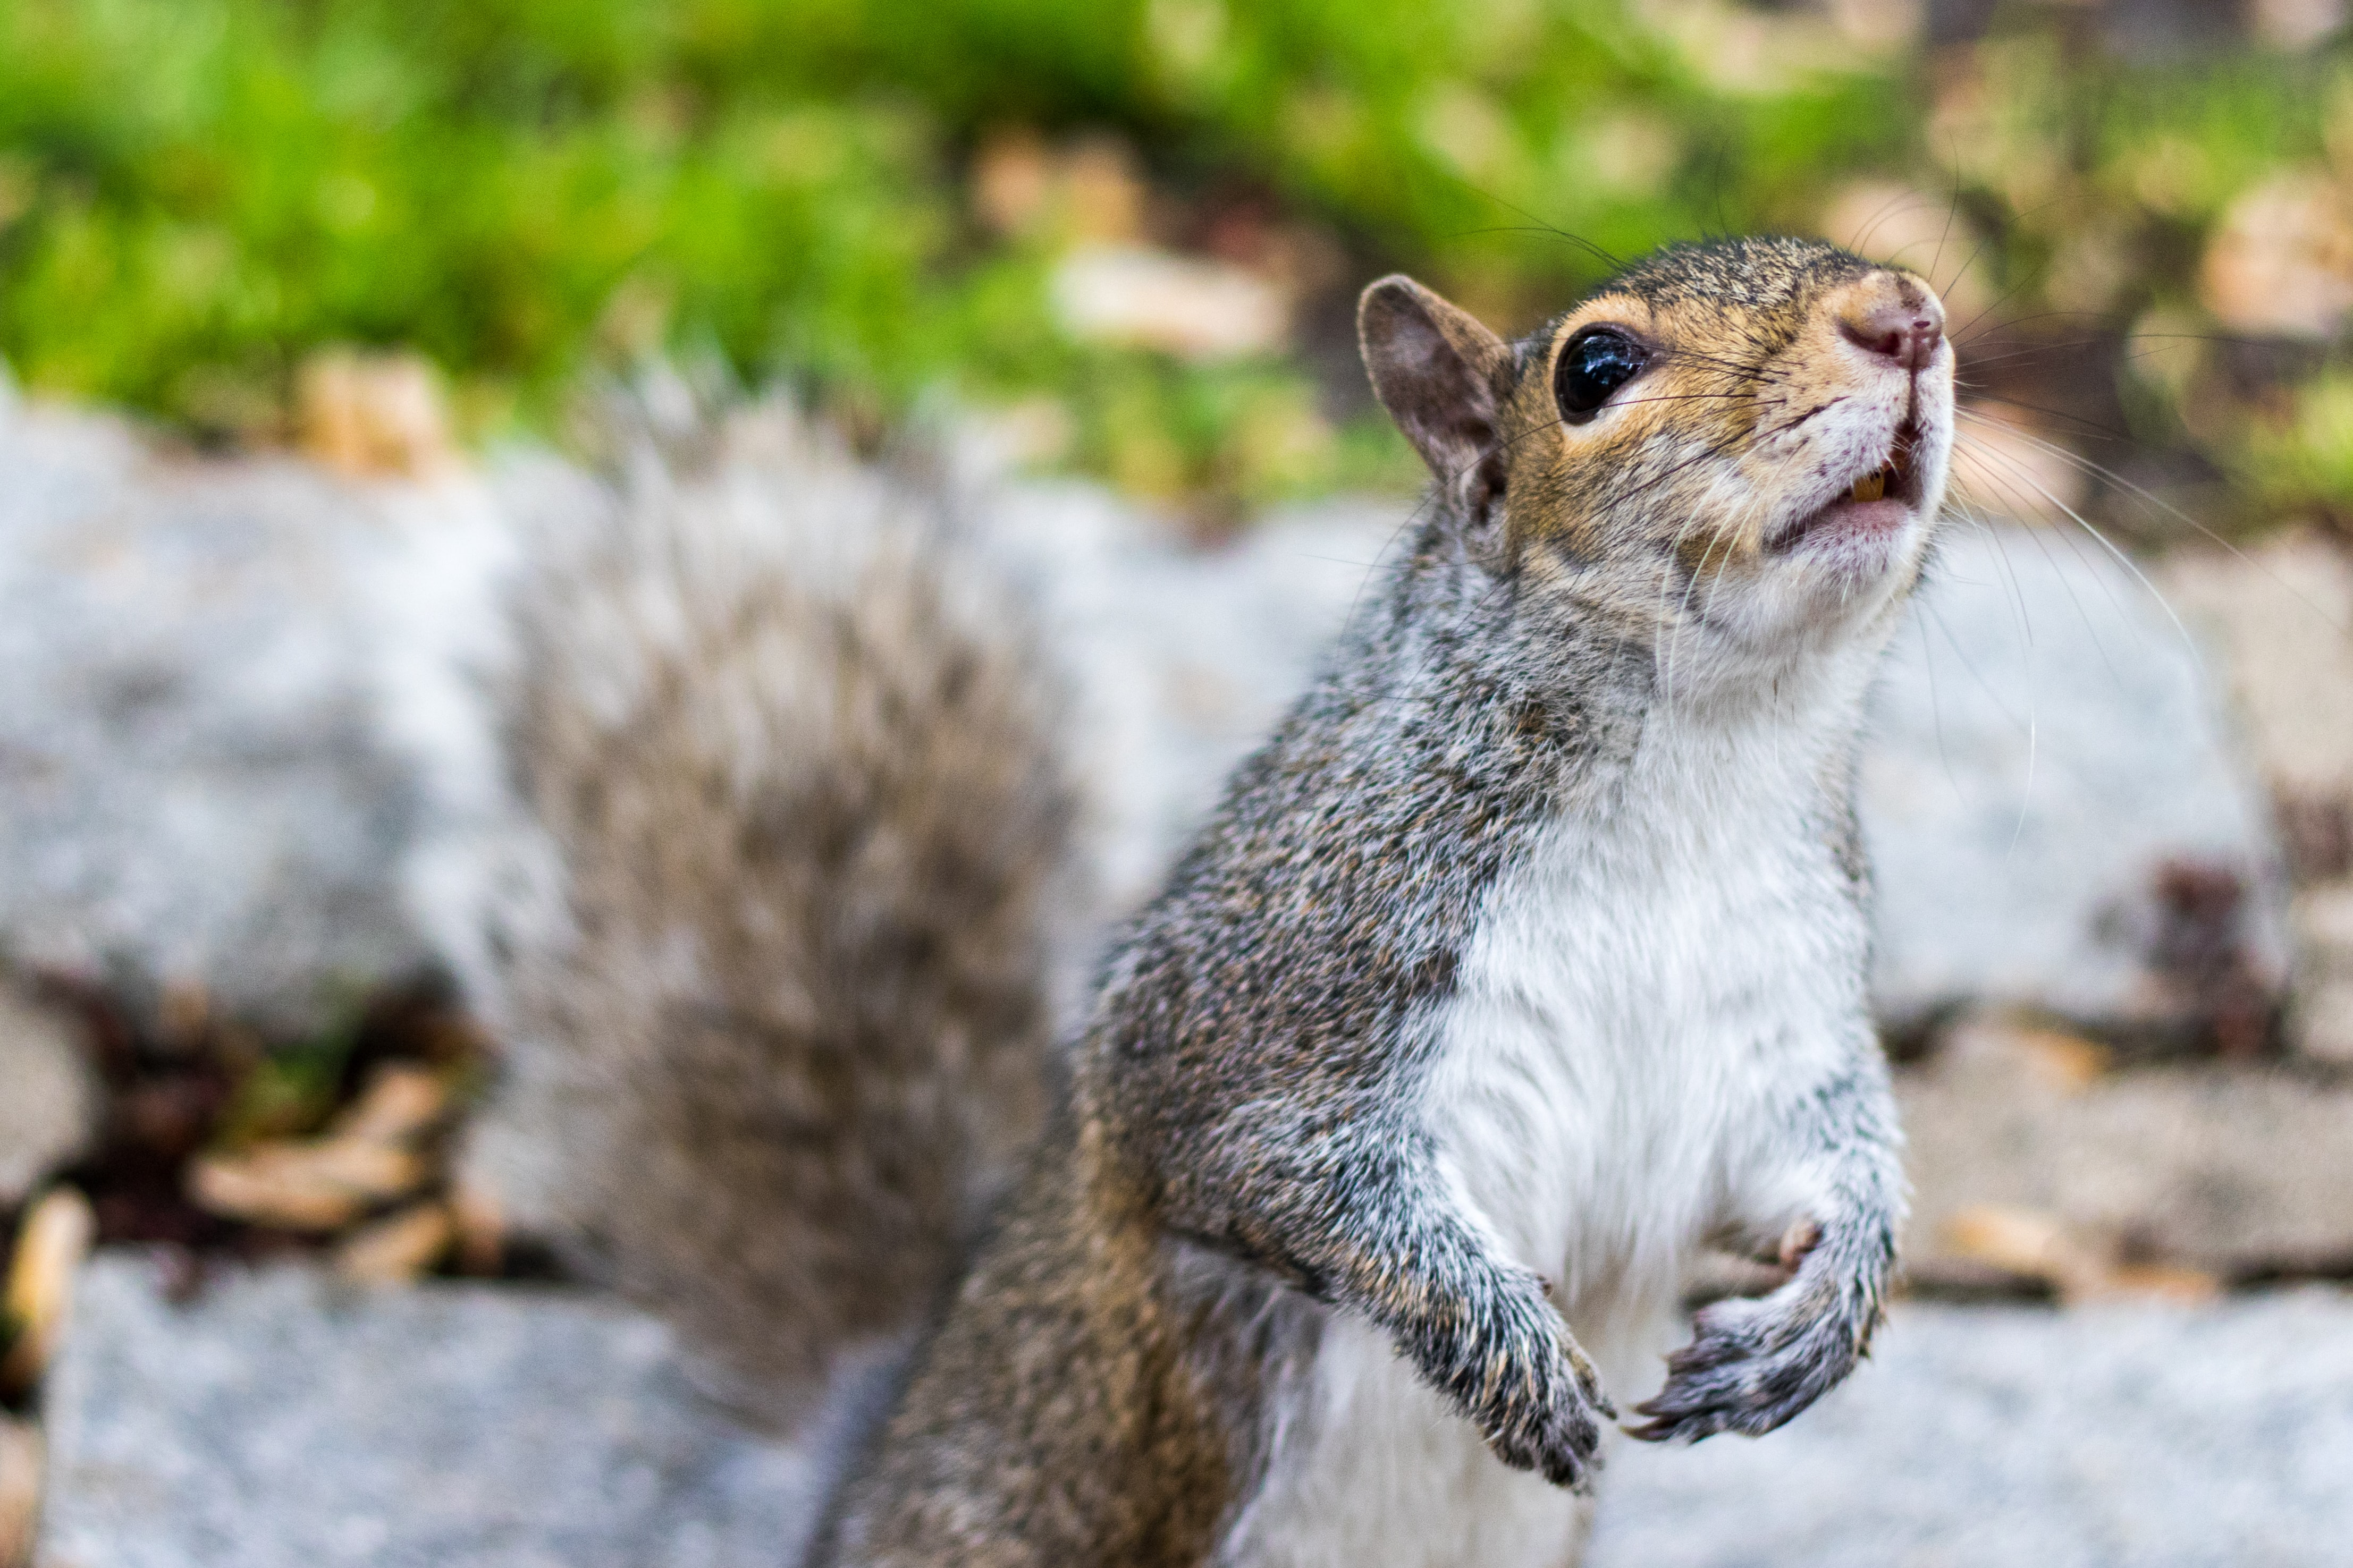squirrel: (1012, 224, 1963, 1501)
